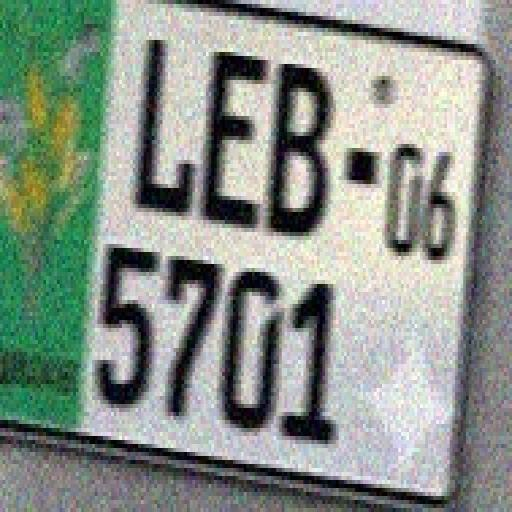0: (228, 262, 273, 436)
1: (287, 278, 347, 449)
5: (94, 227, 157, 410)
7: (163, 257, 220, 422)
B: (267, 54, 330, 252)
E: (201, 38, 262, 248)
L: (132, 27, 195, 235)
